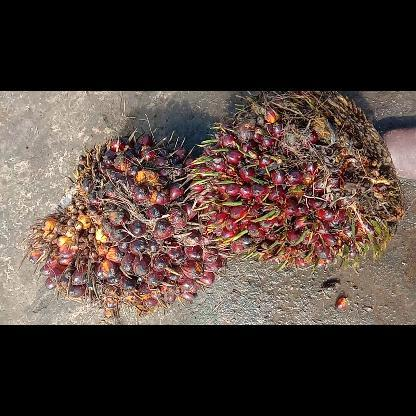Kurang masak: (180, 90, 404, 272)
TBS masak: (24, 127, 233, 314)
